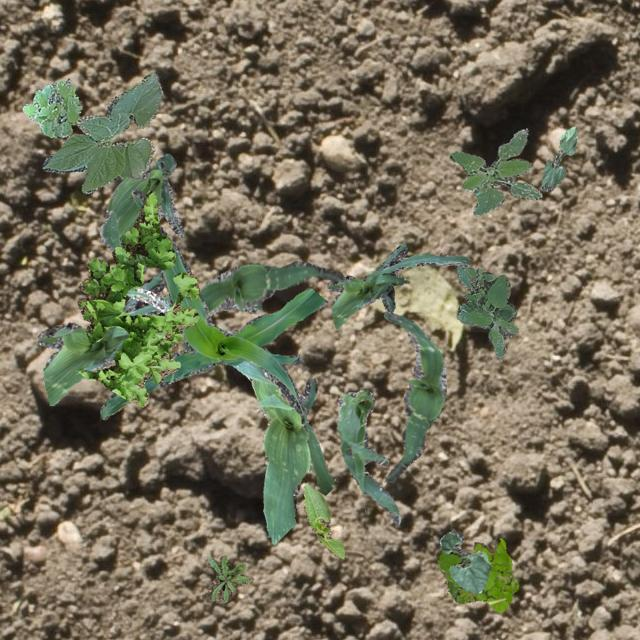crop: (125, 286, 335, 544), (98, 188, 326, 418), (36, 272, 260, 404), (182, 260, 344, 350), (41, 72, 162, 192), (326, 240, 470, 328), (382, 309, 446, 482), (336, 388, 400, 524), (98, 152, 184, 250), (438, 530, 489, 592), (302, 482, 343, 558), (540, 126, 576, 190)
weed: (74, 190, 198, 406), (448, 130, 540, 216), (436, 538, 518, 612), (456, 264, 516, 358), (21, 78, 80, 138), (204, 554, 250, 602)
